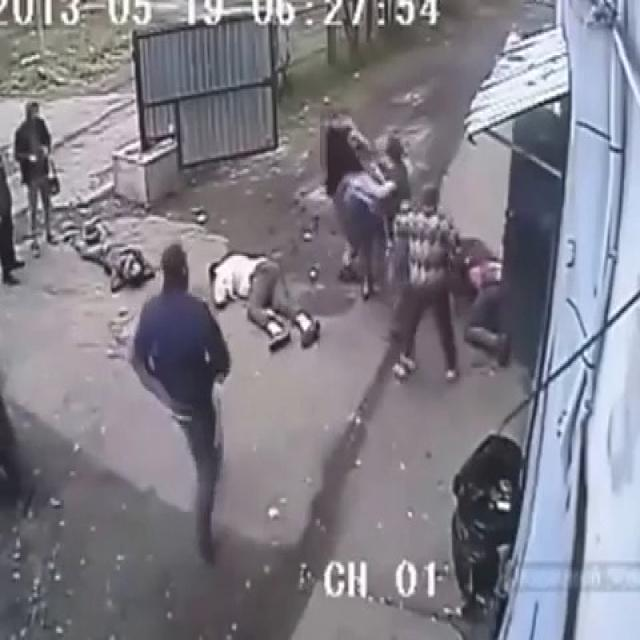fight: (398, 188, 508, 388), (336, 131, 408, 305)
